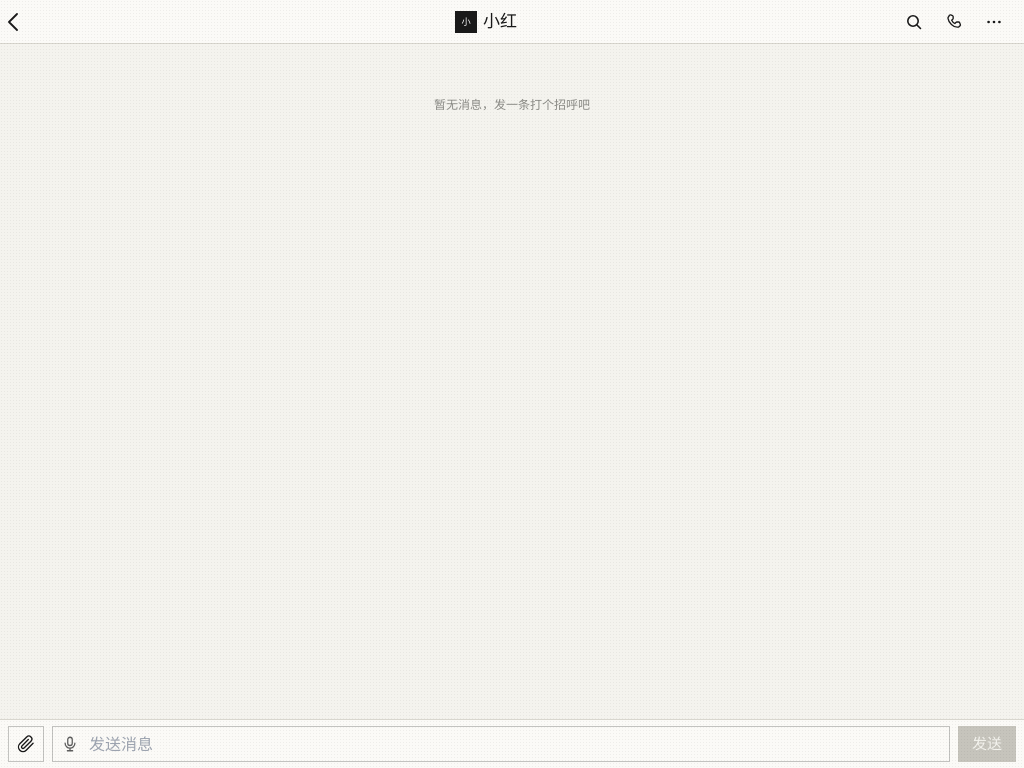
Test: ChatDetail 拉黑确认 › 确认后执行拉黑并给出提示
What coordinates should you click on to do the following:
click the button with test id "chat-menu"
I would click on:
 (994, 22)
Its box is 976,4 -> 1012,40.
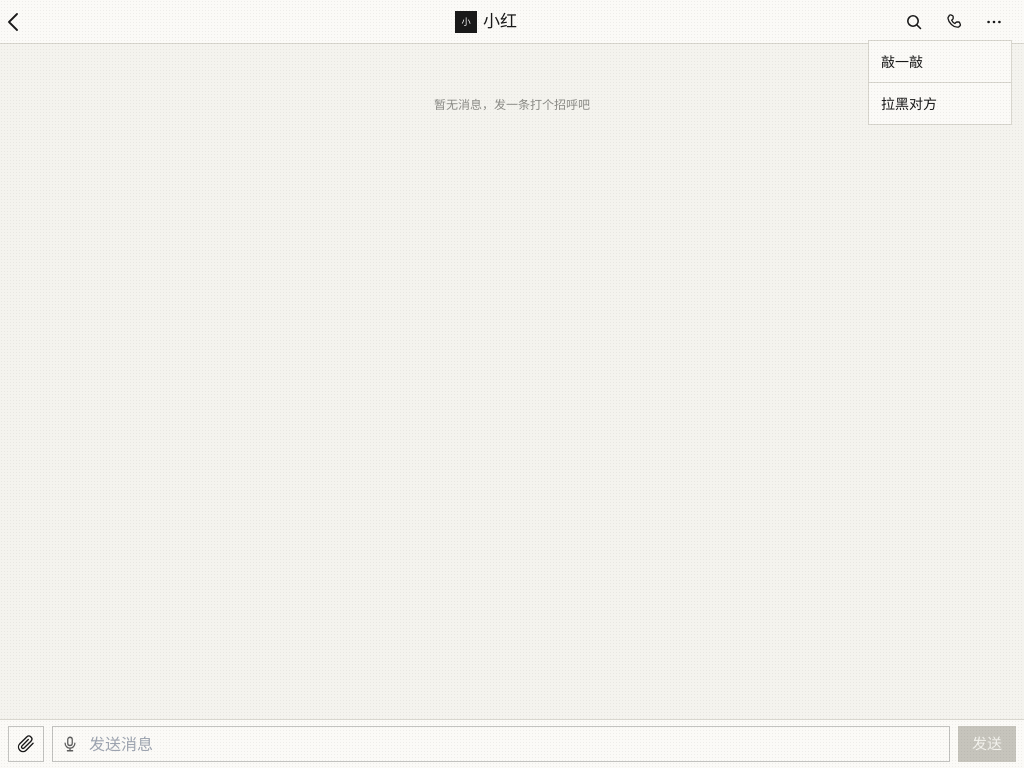
What coordinates should you click on to do the following:
click the button with test id "block-toggle"
I would click on:
 (940, 103)
Its box is 869,82 -> 1011,124.
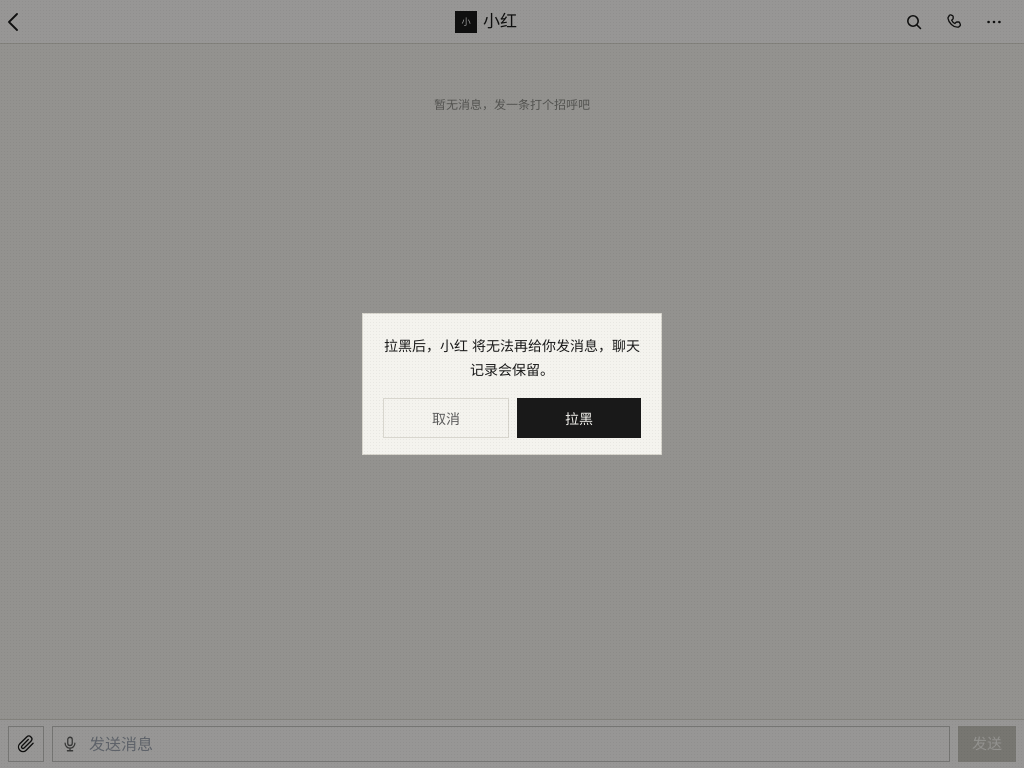
What coordinates should you click on to do the following:
click the button with test id "block-confirm"
I would click on:
 (579, 418)
Its box is 517,398 -> 641,438.
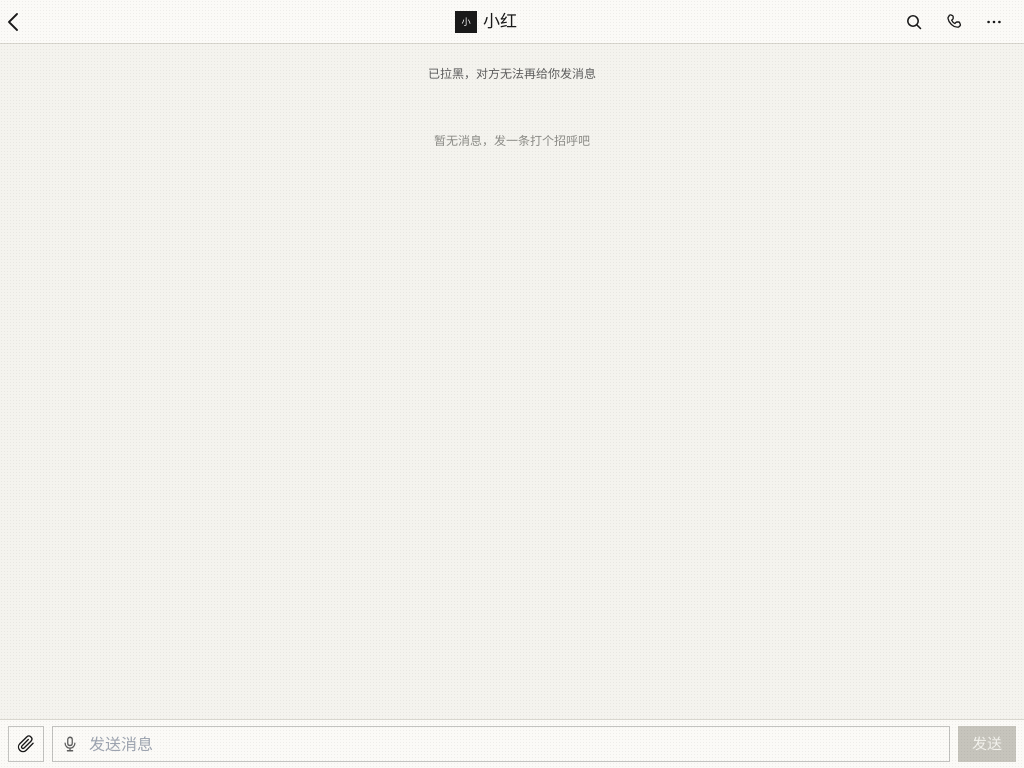
Now the text "已拉黑，对方无法再给你发消息" is shown, box 428,66 -> 596,81
Now the dialog with test id "block-confirm-dialog" is gone
